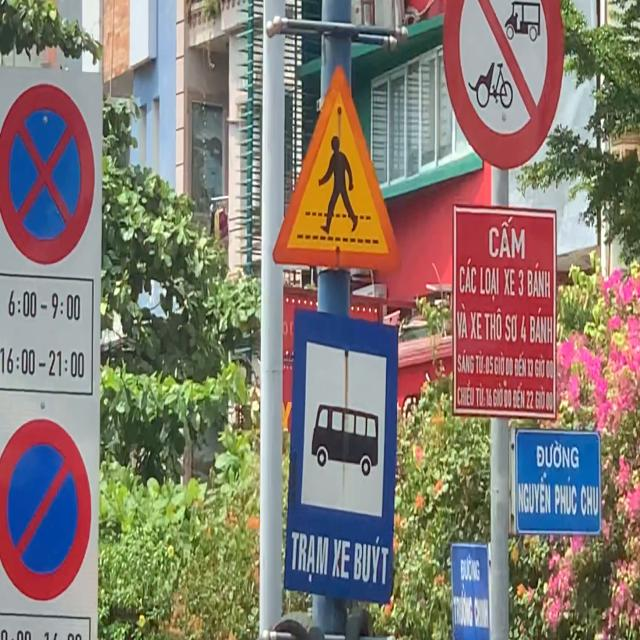Ben xe buyt: (282, 308, 394, 603)
Cam con lai: (442, 0, 566, 173)
Cam do: (0, 415, 99, 606)
Cam dung va do: (0, 78, 98, 274)
Nguoi di bo cat ngang: (266, 56, 404, 284)
